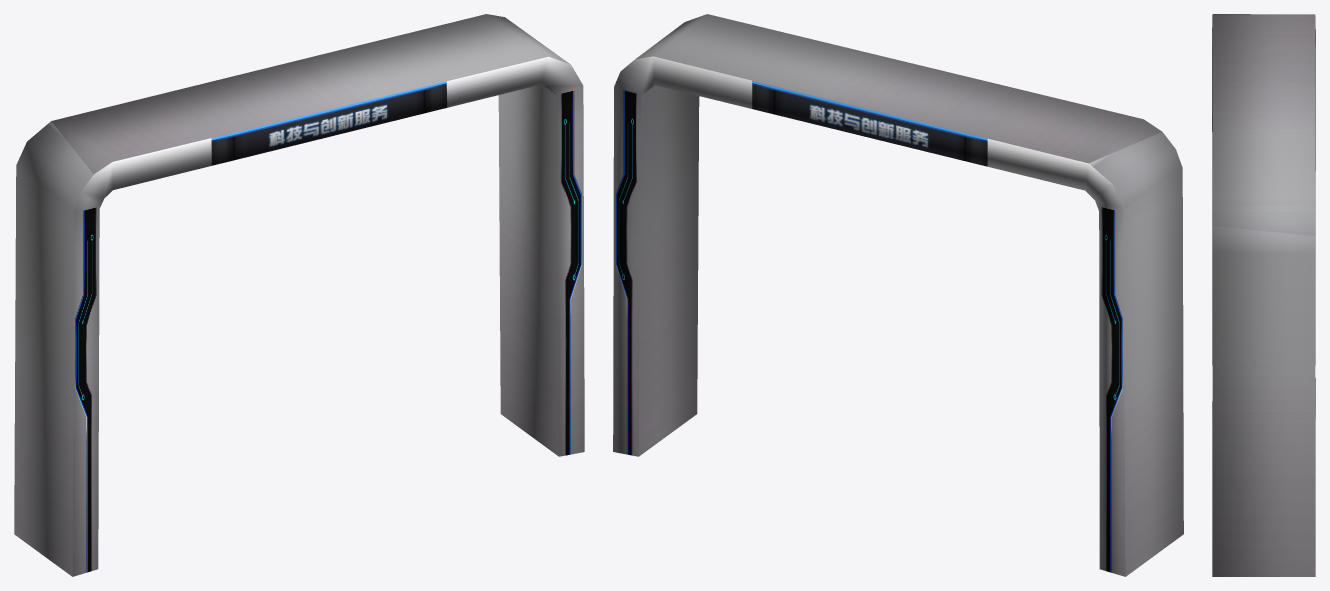
File: menzhuangbei.obj
3 views of the same model, side by side, from view 1: azimuth 30°, elevation 25°; view 2: azimuth 150°, elevation 25°; view 3: azimuth 270°, elevation 25° (orthographic). The views are drawn at different scales.
Visible parts, largest first — view 1: Obj3d66_516411_1_23; view 2: Obj3d66_516411_1_23; view 3: Obj3d66_516411_1_23.
Part boxes in pixels (x1,y1,x2,y2): Obj3d66_516411_1_23: [14, 14, 584, 576]; Obj3d66_516411_1_23: [613, 14, 1183, 576]; Obj3d66_516411_1_23: [1212, 14, 1315, 576].
Bounding box in the file's own units: 455 × 344 × 90.35.
